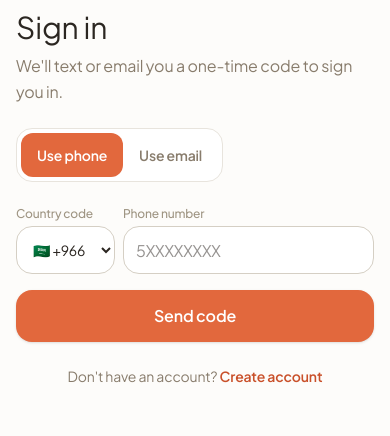
Test case: LoginPage — edge cases (T-052) › shows error when email is empty in email mode
Click the button "Use email". click: [171, 155]
box: [123,133,218,177]
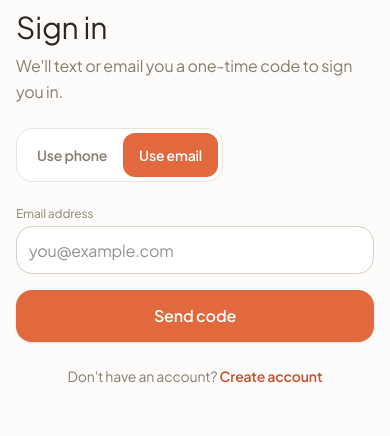
Click the button "Send code". click: [195, 316]
box: [16,290,374,342]
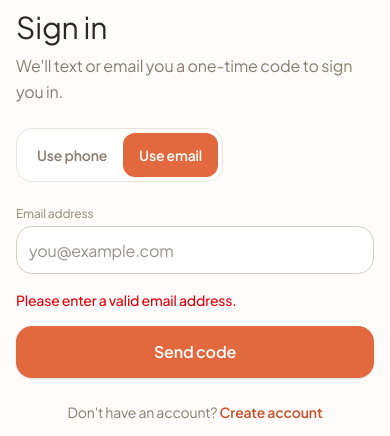
Expected: the message shows "email", [16,291,236,309]
